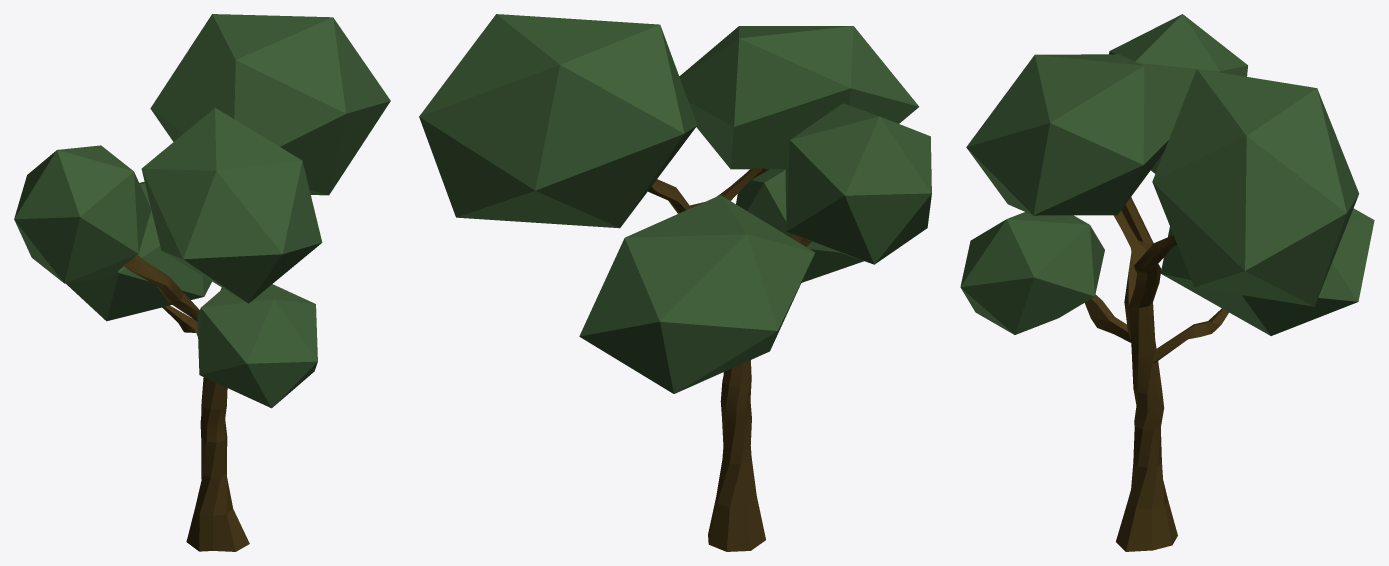
The model's file is Tree_2.fbx.
3 views of the same model, side by side, from view 1: azimuth 30°, elevation 25°; view 2: azimuth 150°, elevation 25°; view 3: azimuth 270°, elevation 25° (orthographic). The views are drawn at different scales.
Parts seen in each view (by area): view 1: Tree_2; view 2: Tree_2; view 3: Tree_2.
Boxes of the visible parts, <box> form: Tree_2: <box>14,14,390,551</box>; Tree_2: <box>419,14,931,551</box>; Tree_2: <box>960,14,1374,551</box>.
Size of the model in its own units: 667 by 713 by 543.
